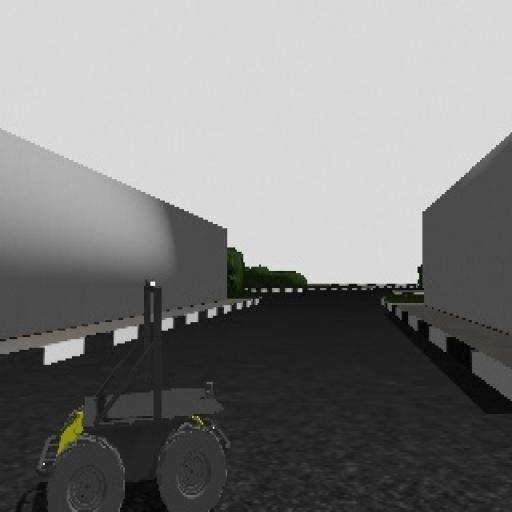huskya200: (5, 234, 236, 512)
